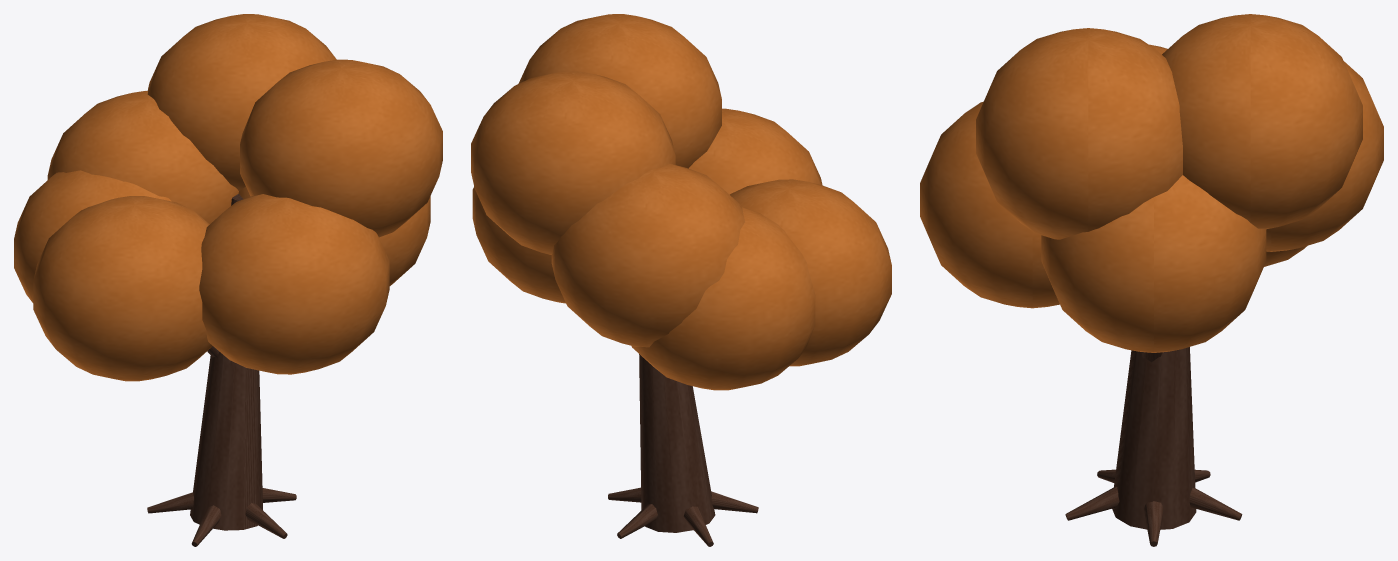
The model's file is maple.glb.
3 renders of one model, left to right at view 1: azimuth 30°, elevation 25°; view 2: azimuth 150°, elevation 25°; view 3: azimuth 270°, elevation 25°, orthographic. The views are drawn at different scales.
Visible parts, largest first — view 1: maple; view 2: maple; view 3: maple.
Part boxes in pixels (<box>): maple: <box>14,14,442,546</box>; maple: <box>471,14,891,546</box>; maple: <box>920,14,1383,546</box>.
Bounding box in the file's own units: 3.36 × 3.79 × 3.05.
Materials: 2 (2 with a texture image).
